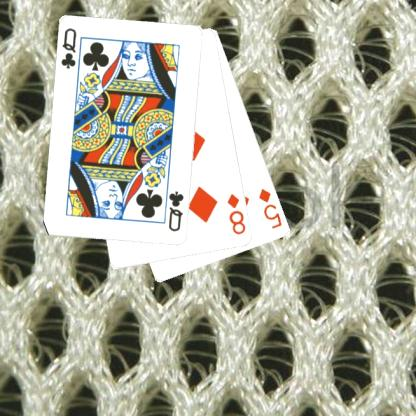5D: (256, 186, 284, 230)
8D: (224, 190, 247, 236)
QC: (166, 188, 186, 233), (59, 26, 78, 70)
